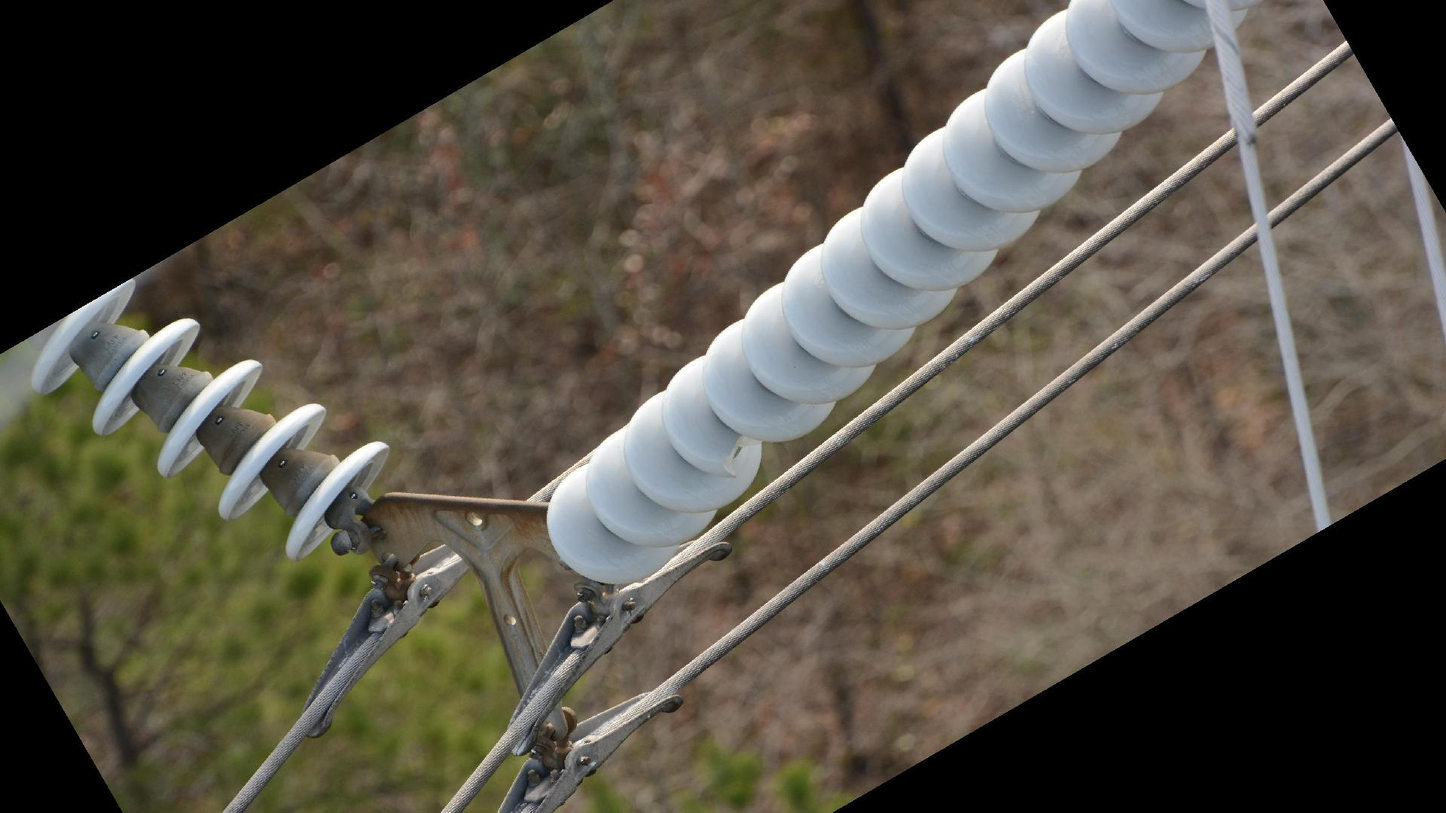insulator: (541, 1, 1249, 594), (24, 273, 398, 569)
insulator_breakage: (714, 431, 770, 483)
